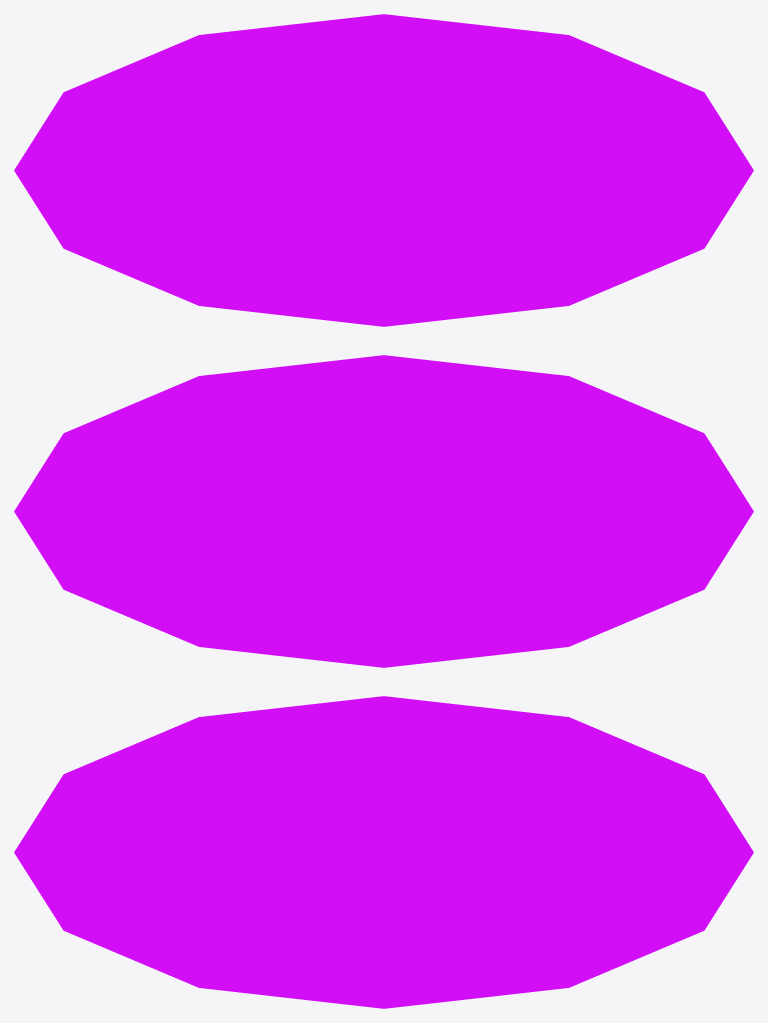
Rendered from splat-object.glb.
The picture shows the model from 3 angles, top to bottom: view 1: azimuth 30°, elevation 25°; view 2: azimuth 150°, elevation 25°; view 3: azimuth 270°, elevation 25°; orthographic projection.
Visible parts, largest first — view 1: splat; view 2: splat; view 3: splat.
Boxes of the visible parts, x1,y1,x2,y2 form: splat: (14,14,753,326); splat: (14,355,753,667); splat: (14,696,753,1008).
Size of the model in its own units: 1 by 0 by 1.
